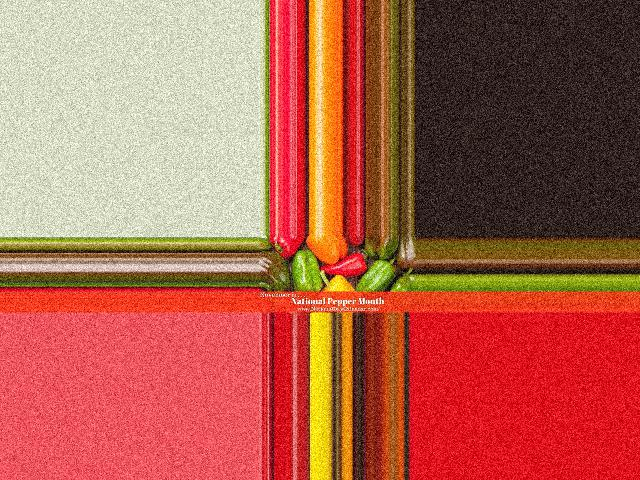bell_pepper: (259, 251, 290, 291)
